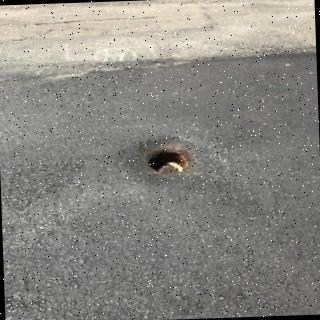pothole: (147, 144, 192, 176)
